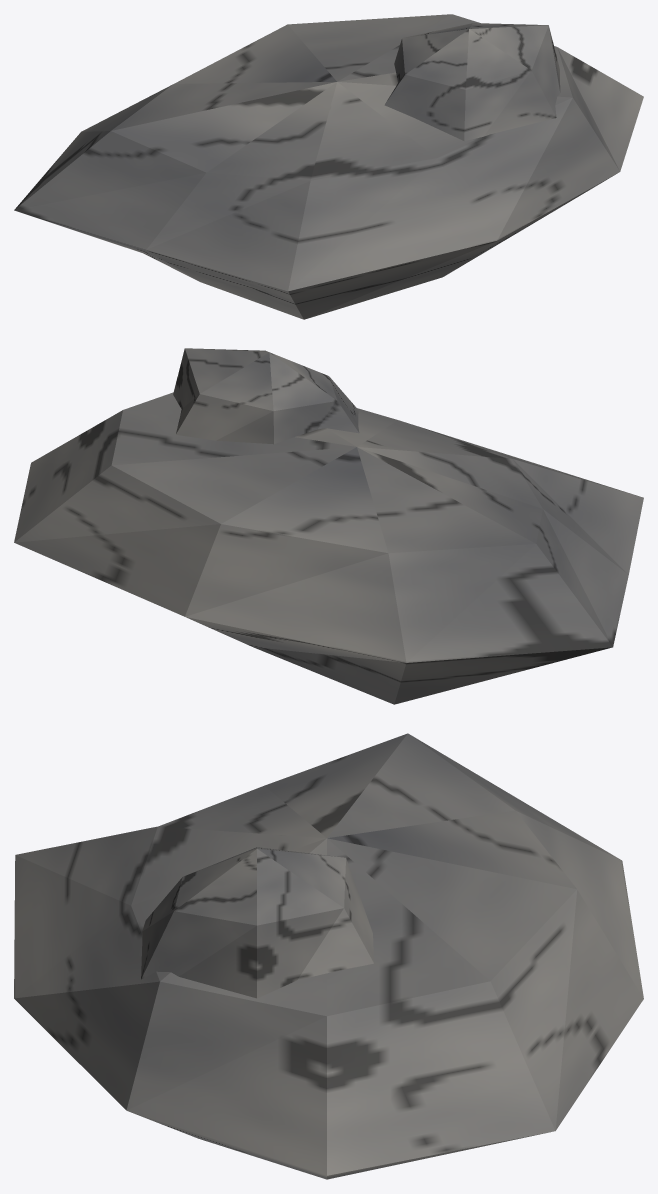
The model's file is rock2.obj.
3 views of the same model, one above another, from view 1: azimuth 30°, elevation 25°; view 2: azimuth 150°, elevation 25°; view 3: azimuth 270°, elevation 25° (orthographic). The views are drawn at different scales.
Visible parts, largest first — view 1: Rock2; view 2: Rock2; view 3: Rock2.
Boxes of the visible parts, x1,y1,x2,y2 form: Rock2: [14, 14, 643, 319]; Rock2: [14, 348, 643, 704]; Rock2: [14, 733, 643, 1179].
Size of the model in its own units: 2.75 by 0.9 by 1.81.
1 material, 1 textured.
